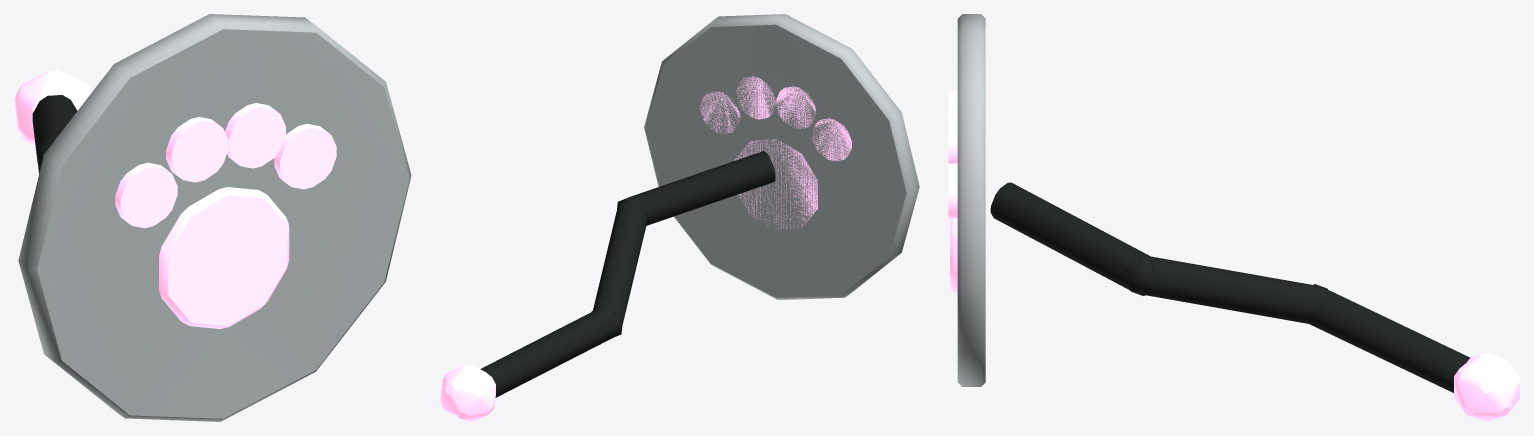
File: patch_husk_sticker.glb
The picture shows the model from 3 angles, left to right: view 1: azimuth 30°, elevation 25°; view 2: azimuth 150°, elevation 25°; view 3: azimuth 270°, elevation 25°; orthographic projection. The views are drawn at different scales.
Parts seen in each view (by area): view 1: PatchHuskStickerMesh; view 2: PatchHuskStickerMesh; view 3: PatchHuskStickerMesh.
Boxes of the visible parts, x1,y1,x2,y2 form: PatchHuskStickerMesh: (14, 14, 411, 421); PatchHuskStickerMesh: (440, 14, 919, 421); PatchHuskStickerMesh: (948, 14, 1519, 421).
Bounding box in the file's own units: 0.48 × 0.48 × 0.7321.
